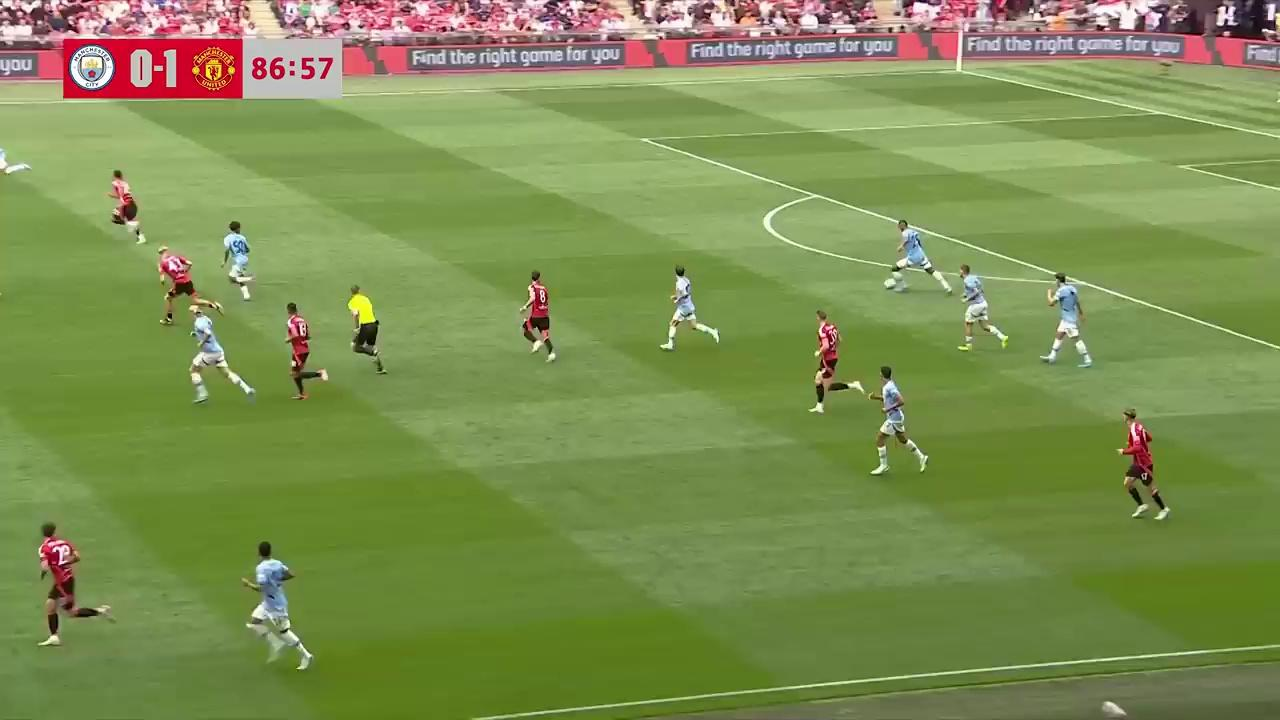player: (243, 541, 314, 671), (867, 365, 929, 476), (188, 303, 256, 404), (37, 522, 89, 649), (1116, 409, 1170, 520), (660, 265, 718, 352), (1042, 271, 1093, 368), (956, 262, 1007, 352), (284, 302, 328, 400), (886, 220, 941, 291), (810, 311, 844, 414), (156, 244, 198, 326), (519, 270, 555, 362), (105, 169, 144, 243), (221, 221, 253, 301), (0, 136, 32, 181)
referee: (347, 284, 386, 374)
